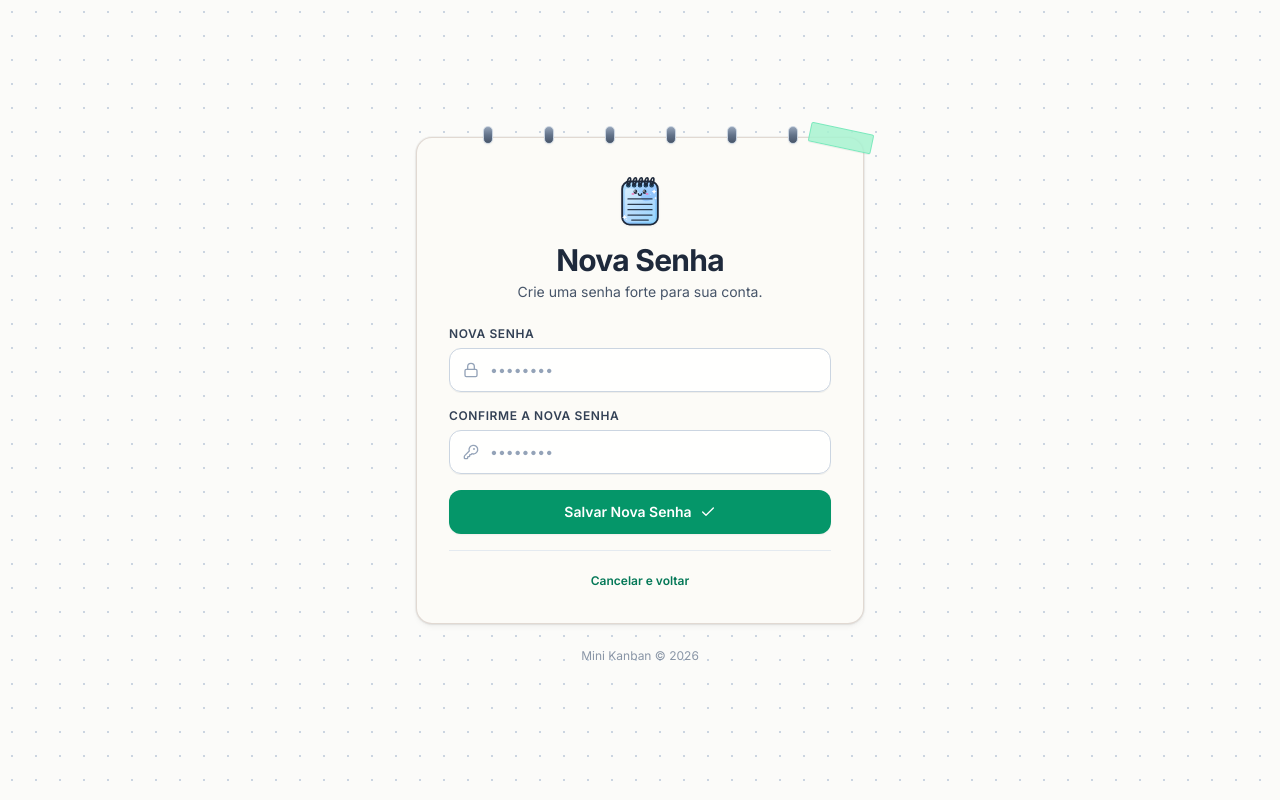
Test: PaginaRedefinirSenha › impede senhas diferentes
Type "senha-a" into the password field labelled "Nova Senha".
click(640, 370); type("senha-a")  # box x1=449 y1=348 x2=831 y2=392
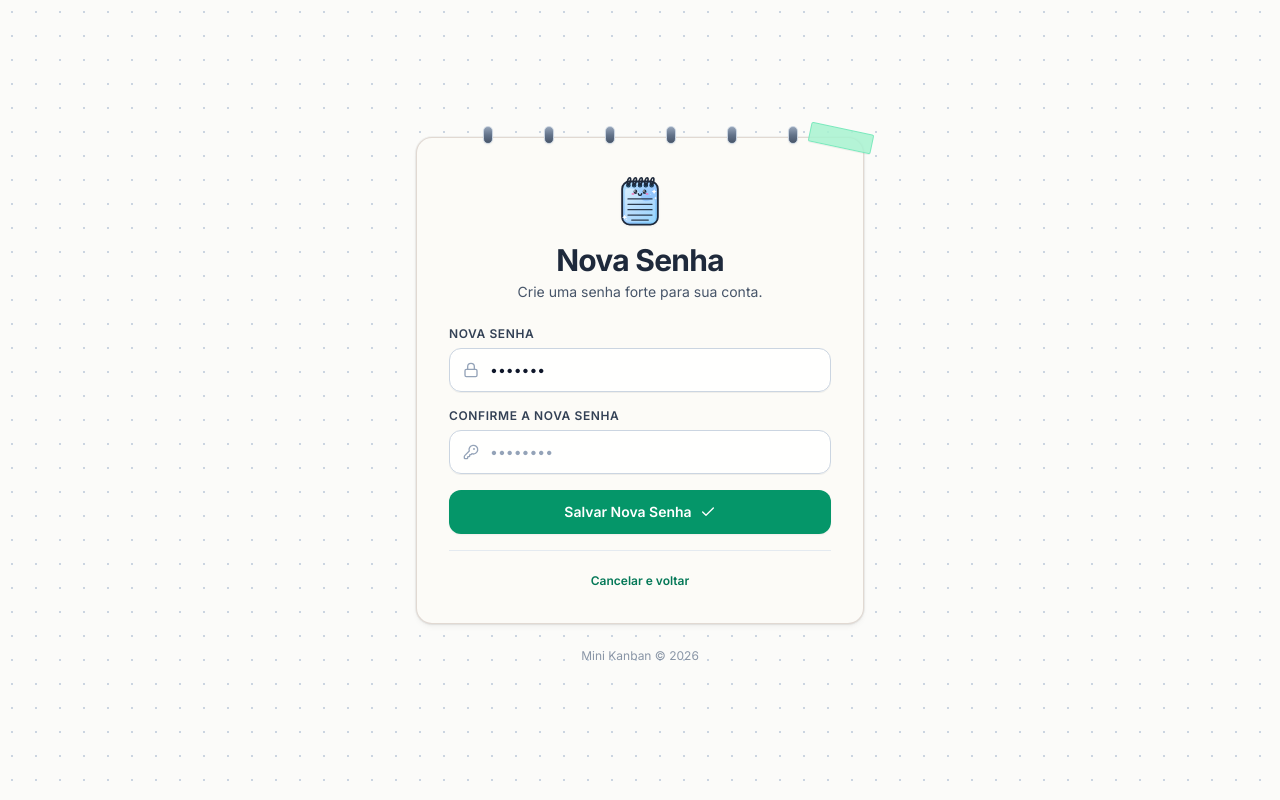
Type "senha-b" into the password field labelled "Confirme a Nova Senha".
click(640, 452); type("senha-b")  # box x1=449 y1=430 x2=831 y2=474
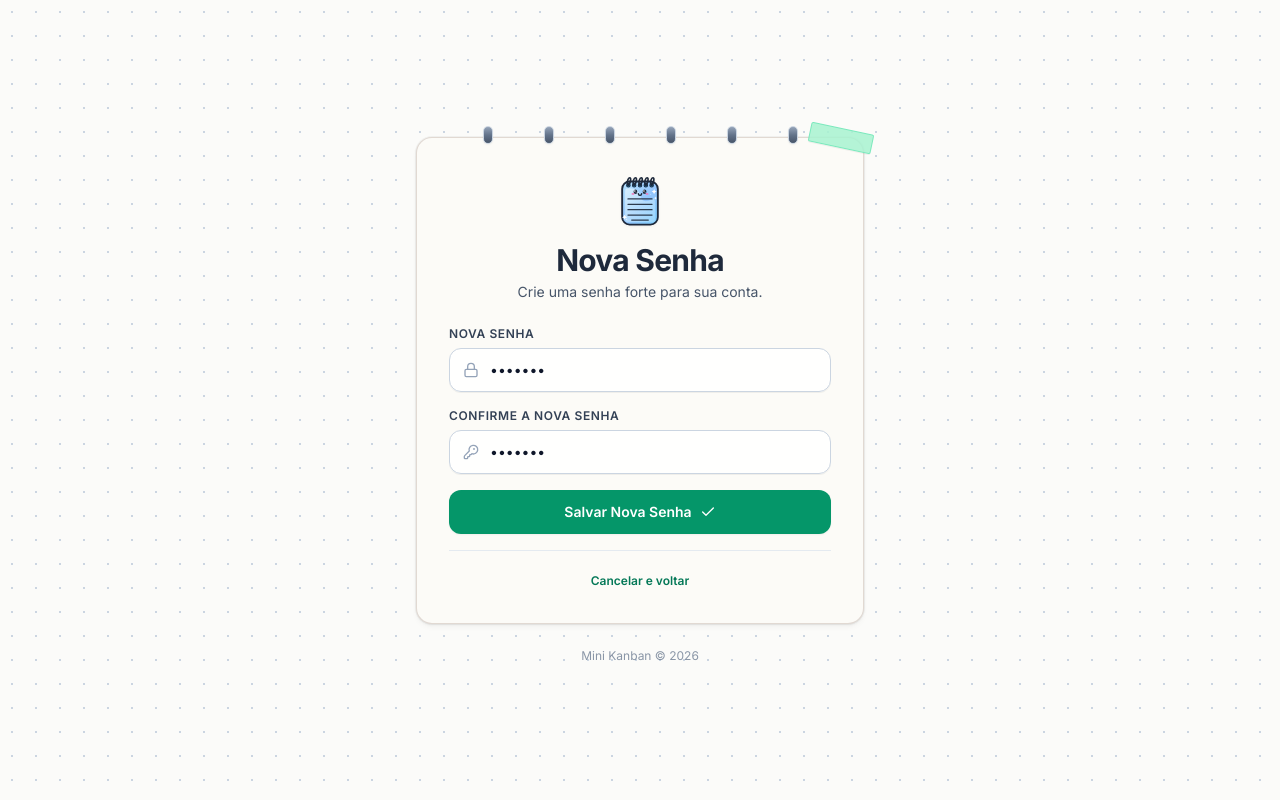
Click the button "Salvar Nova Senha".
click(640, 512)  # box x1=449 y1=490 x2=831 y2=534
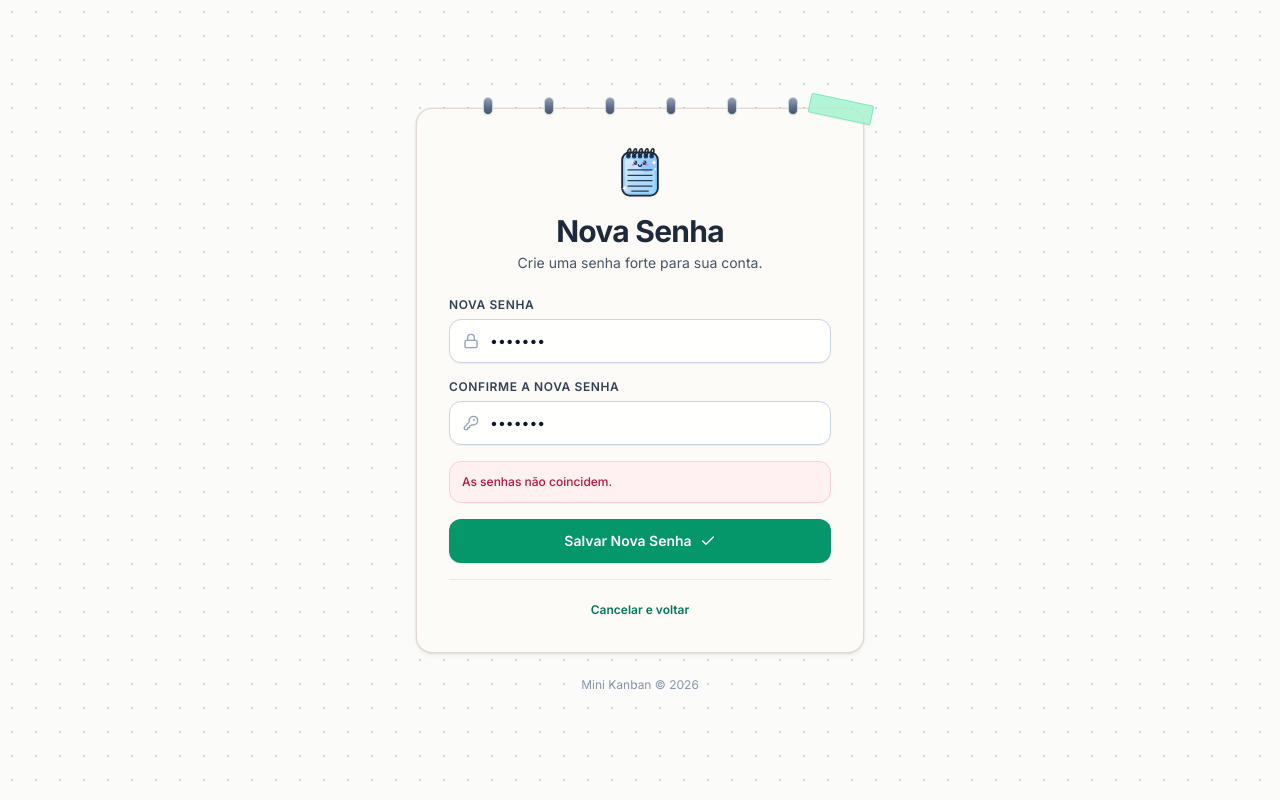
Check: the text "As senhas não coincidem." is shown, box x1=462 y1=474 x2=612 y2=488
